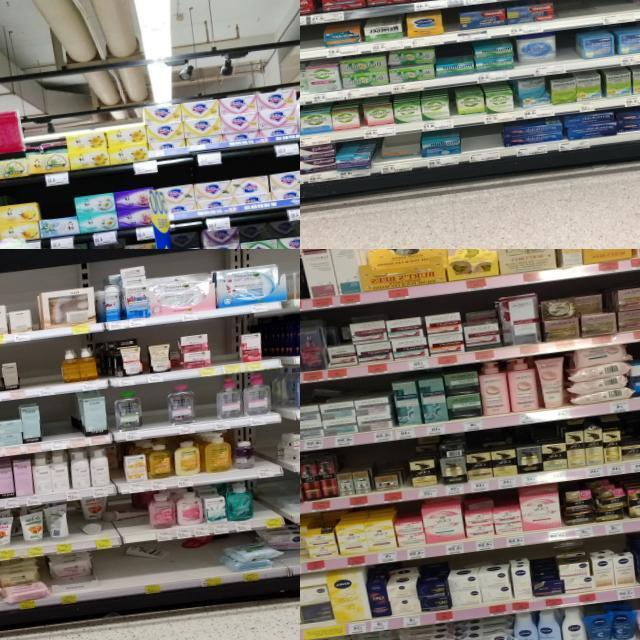empty: (98, 558, 168, 599), (166, 544, 224, 590), (553, 0, 629, 30), (20, 344, 62, 396), (139, 383, 172, 438), (208, 324, 240, 374), (461, 124, 502, 163), (38, 396, 66, 451), (192, 379, 218, 432), (252, 482, 280, 528), (252, 432, 276, 478), (300, 23, 325, 62), (556, 29, 578, 72), (62, 396, 80, 447)
